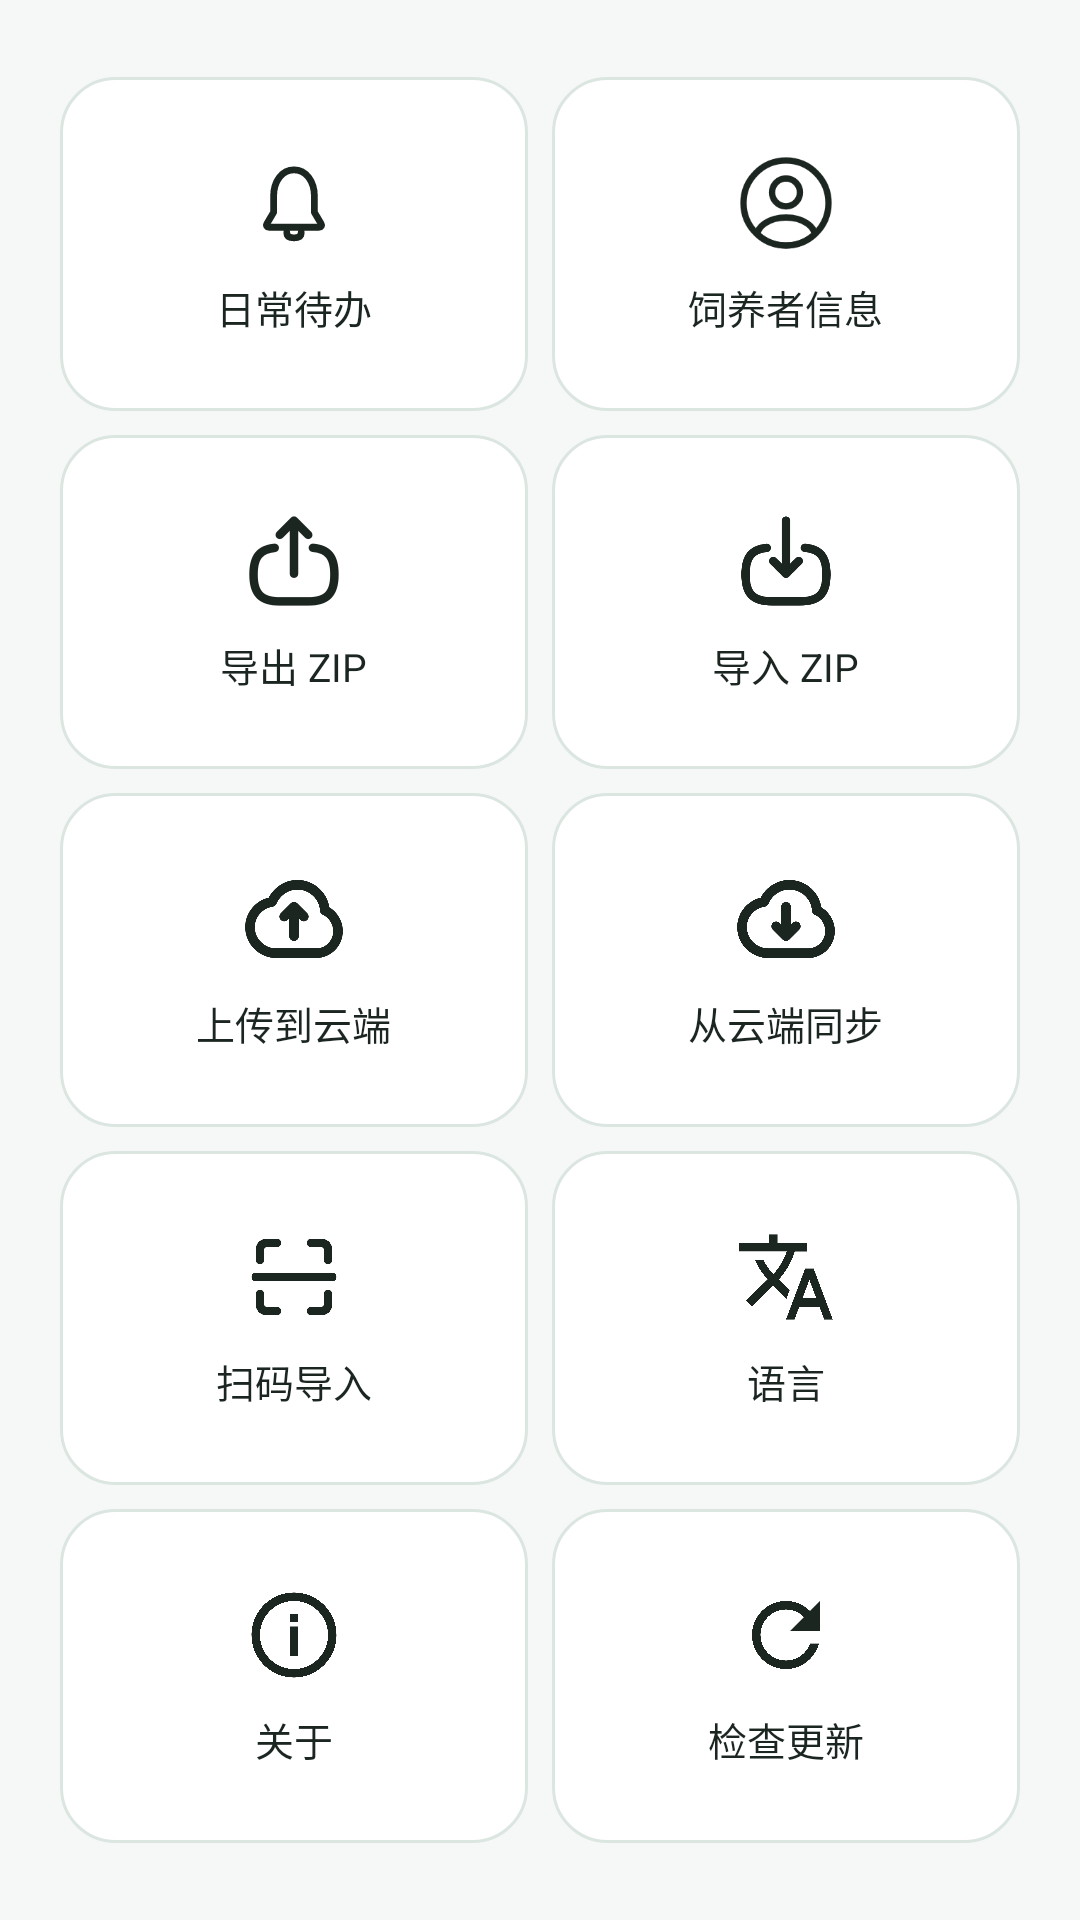

Icons on this 1080 × 1920 Android screen, each with its box as (x1, y1, x2, y2):
bell: (263, 166, 325, 242)
refresh: (752, 1601, 820, 1669)
